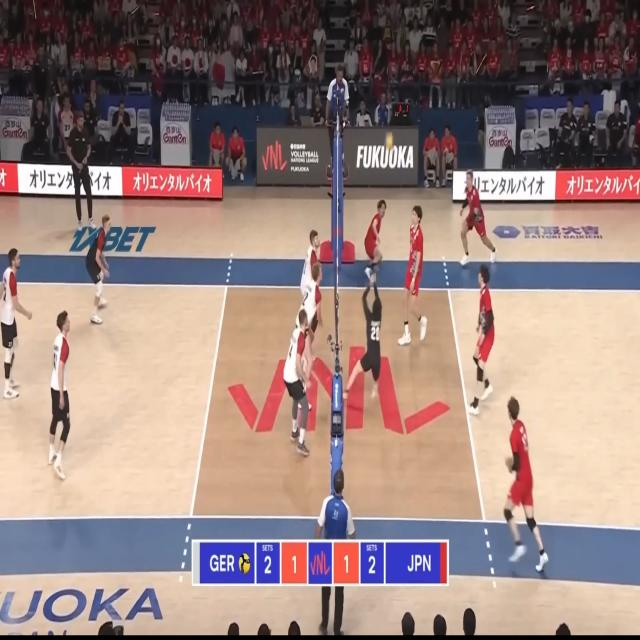ball: (385, 133, 393, 148)
